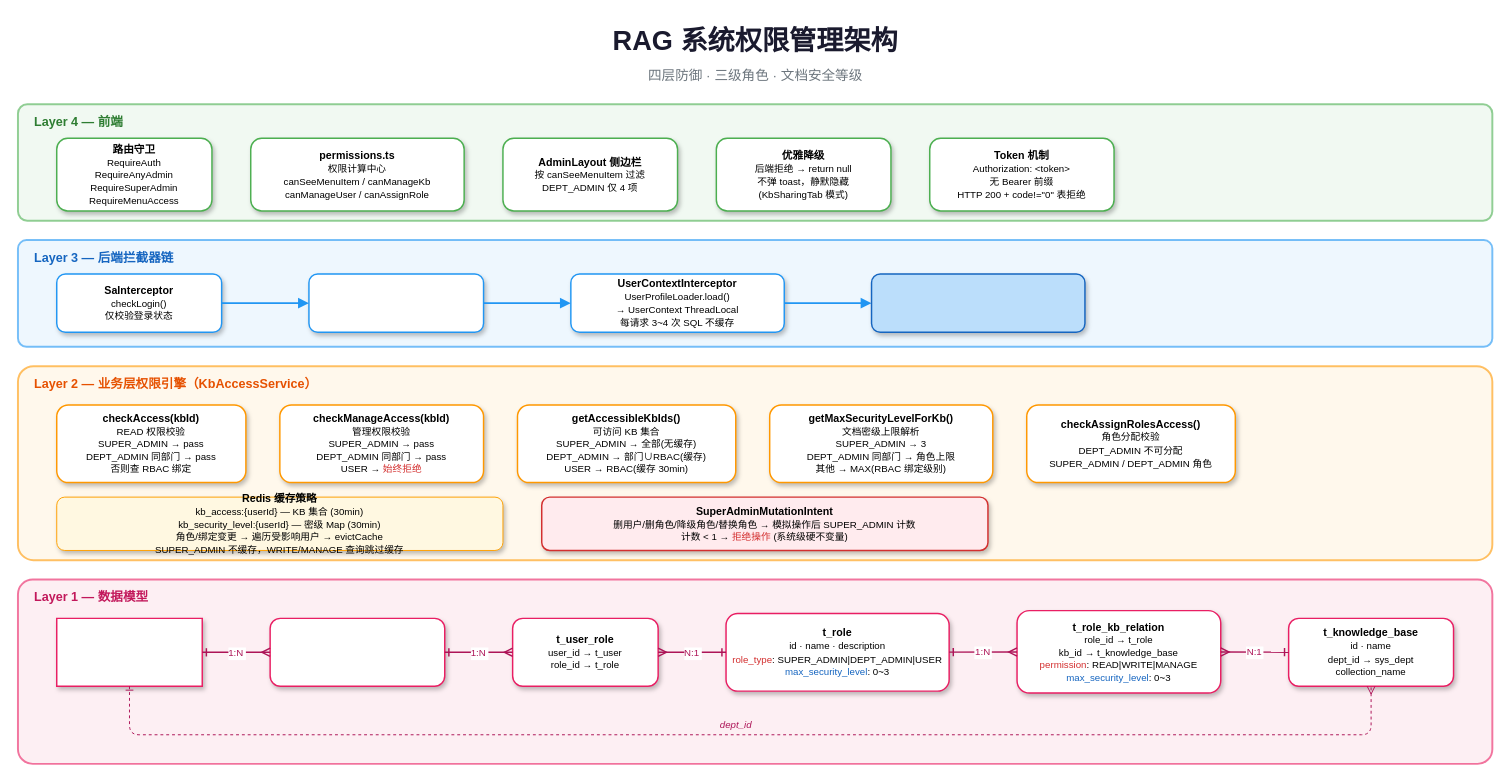
The diagram is 1509 pixels wide and 781 high, and some of its shapes have lost their labels. The centre of each missing label's shape, as x and y in pixels:
"Controller @SaCheckRole / KbAccessService" belongs at [979,304].
"DemoModeInterceptor 演示环境写入拦截" belongs at [397,304].
"sys_dept id deptCode (UNIQUE) deptName" belongs at [130,653].
"t_user id · username · password dept_id → sys_dept deleted (@TableLogic)" belongs at [358,653].
